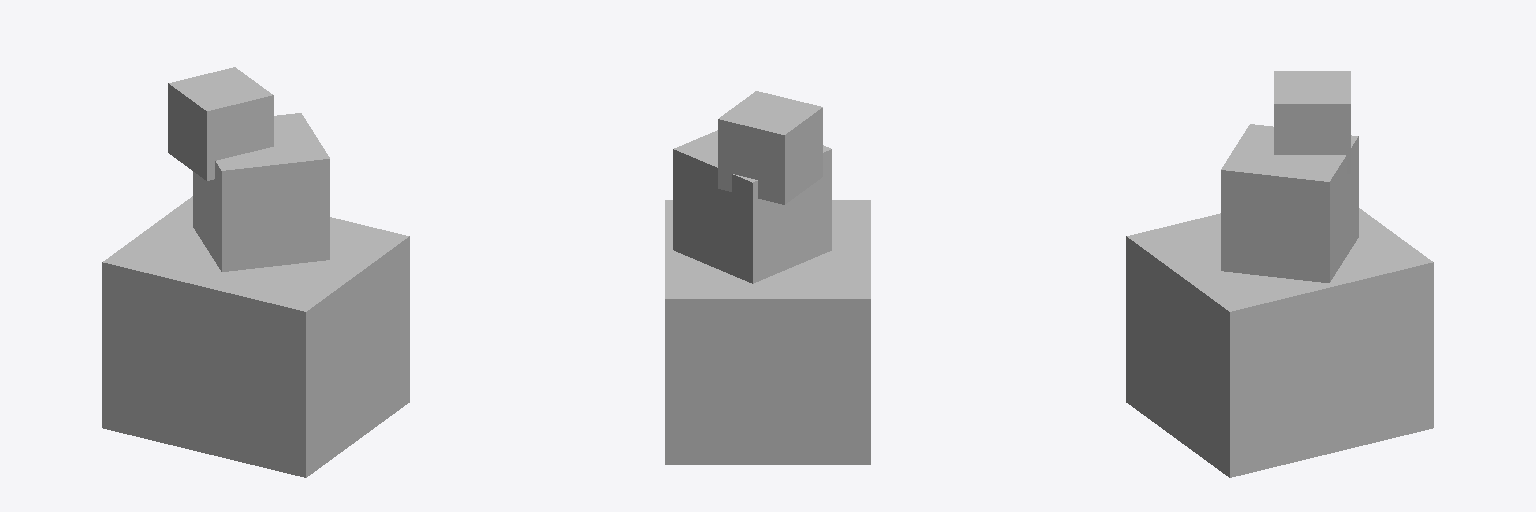
The model's file is square.obj.
The picture shows the model from 3 angles: view 1: azimuth 30°, elevation 25°; view 2: azimuth 150°, elevation 25°; view 3: azimuth 270°, elevation 25°; orthographic projection.
Visible parts, largest first — view 1: pCube1, pCube2, pCube3; view 2: pCube1, pCube2, pCube3; view 3: pCube1, pCube2, pCube3.
Part boxes in pixels (x1,y1,x2,y2): pCube1: (102, 196, 409, 477); pCube2: (193, 113, 329, 271); pCube3: (168, 67, 273, 180); pCube1: (665, 200, 870, 464); pCube2: (673, 130, 831, 283); pCube3: (718, 91, 822, 204); pCube1: (1126, 208, 1433, 477); pCube2: (1221, 124, 1358, 282); pCube3: (1274, 71, 1350, 173).
Size of the model in its own units: 5.34 by 6.34 by 5.53.